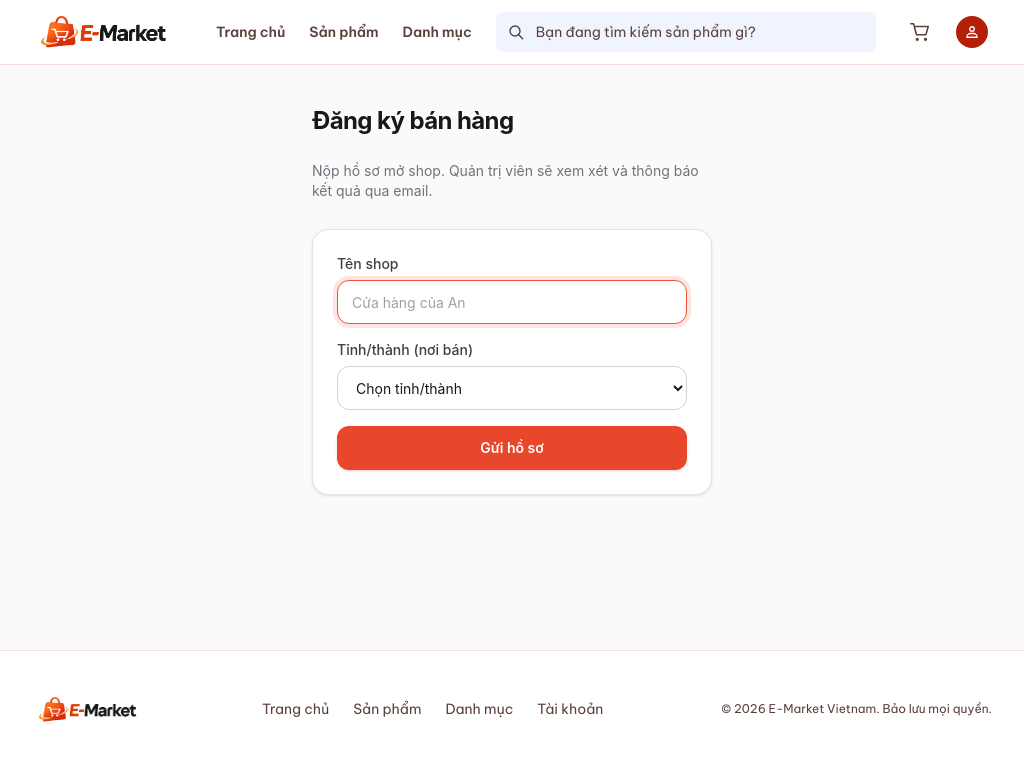
Test: Đăng ký người bán (nộp hồ sơ, chờ duyệt) › hiện lỗi từ server khi đã có hồ sơ chờ
Type "Shop An" into the field labelled "Tên shop" at (512, 302), box [337,280,687,324]
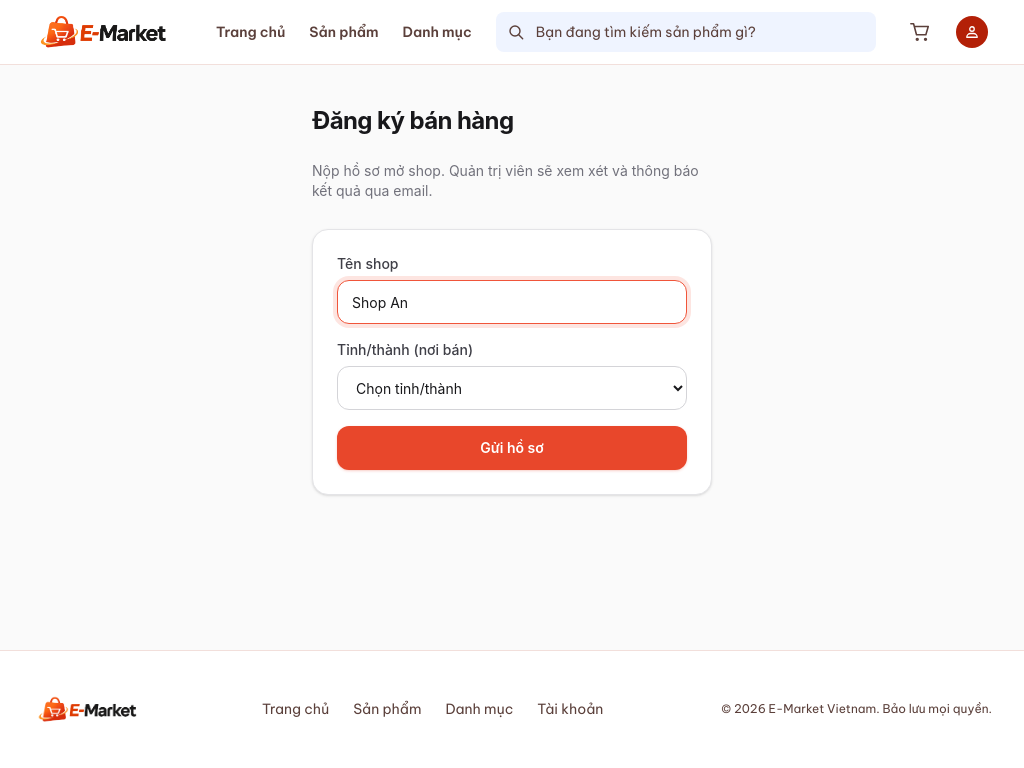
Select "TP. Hồ Chí Minh" in the dropdown labelled "Tỉnh/thành (nơi bán)" at (512, 388), box [337,366,687,410]
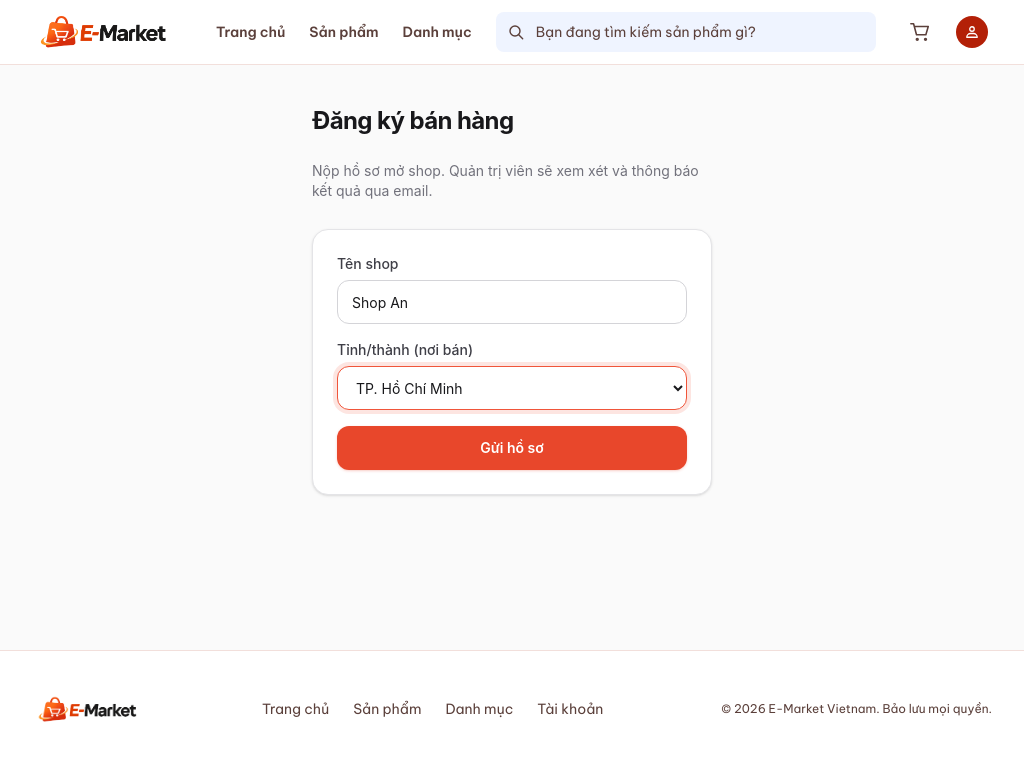
Click the button "Gửi hồ sơ" at (512, 448), box [337,426,687,470]
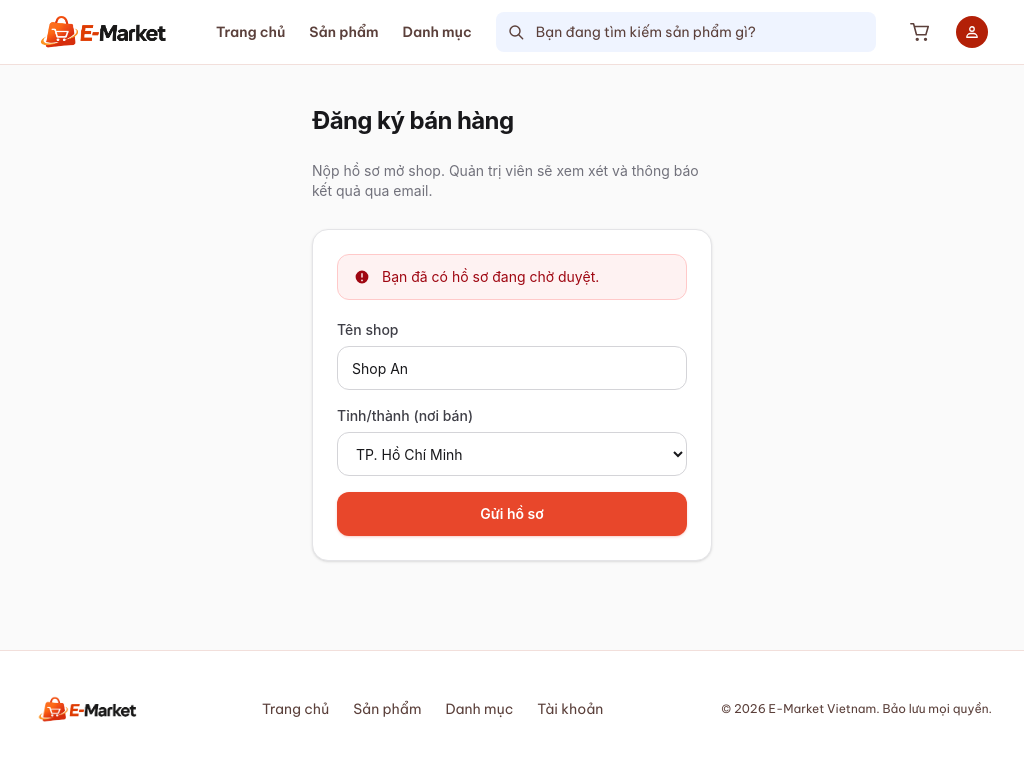
Check: the message shows "đang chờ duyệt", box [382,268,599,285]
